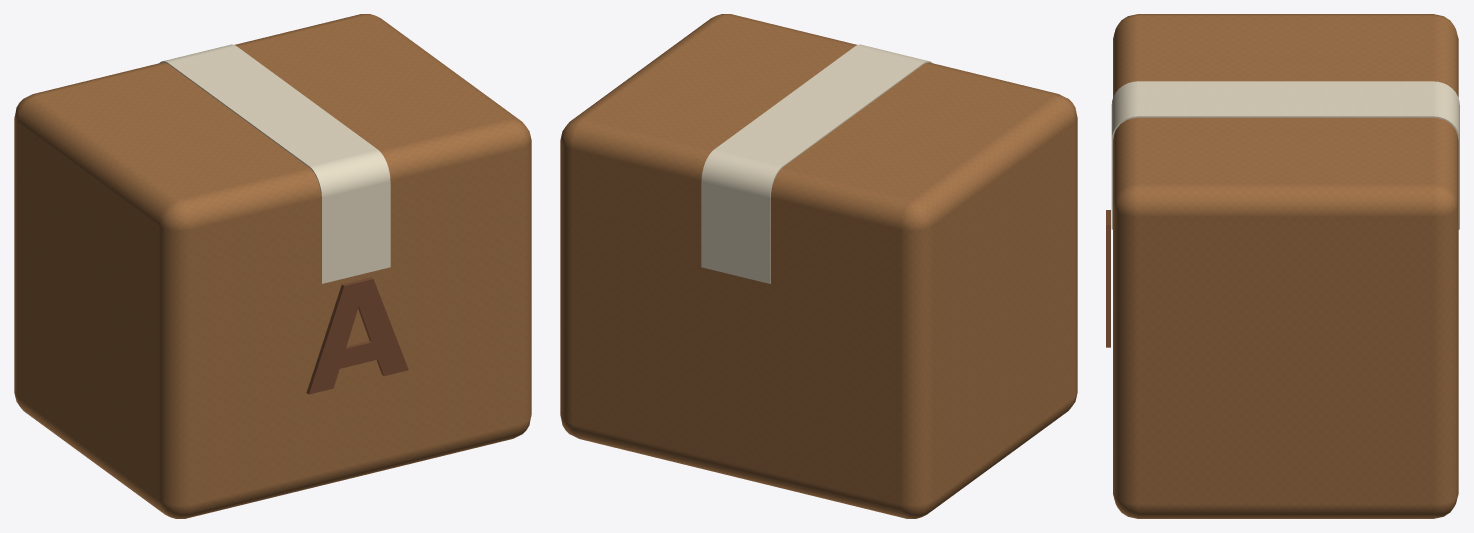
3 views of the same model, side by side, from view 1: azimuth 30°, elevation 25°; view 2: azimuth 150°, elevation 25°; view 3: azimuth 270°, elevation 25° (orthographic). The views are drawn at different scales.
Visible parts, largest first — view 1: BOX; view 2: BOX; view 3: BOX.
Part boxes in pixels (x1,y1,x2,y2): BOX: (14, 14, 531, 518); BOX: (560, 14, 1077, 518); BOX: (1106, 14, 1459, 518).
Size of the model in its own units: 0.62 by 0.5118 by 0.4913.
3 materials, 2 textured.
